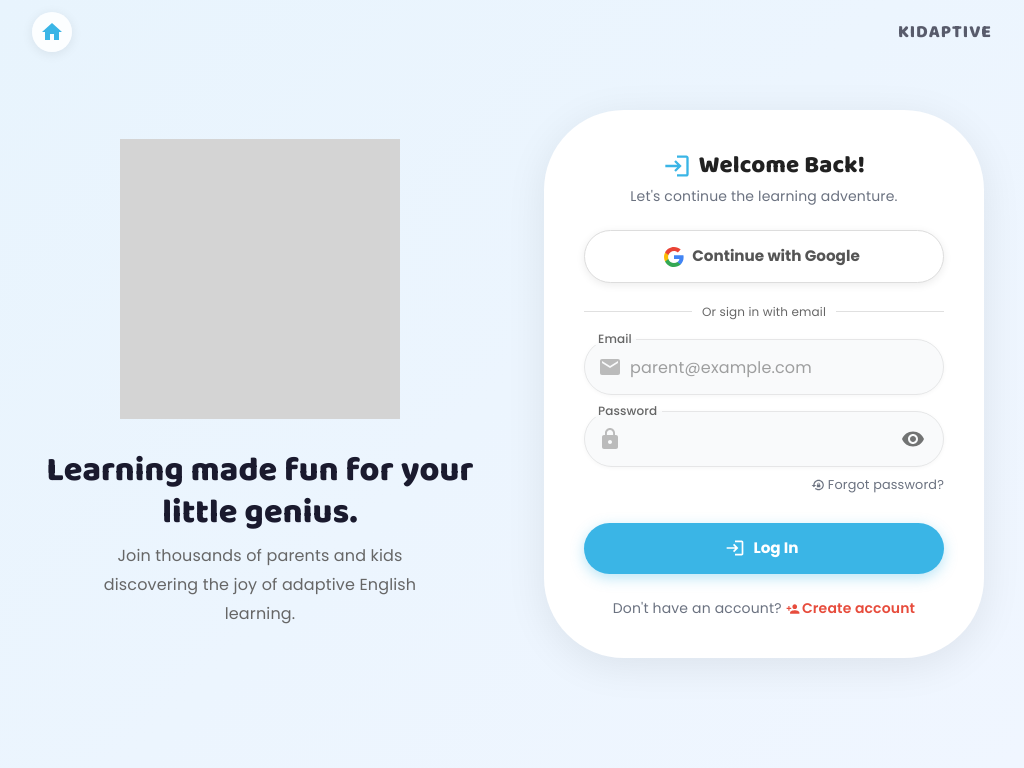
Scenario: ParentLoginPage › shows error message when login fails
In the field labelled "Email": [787, 367] box [630,339,944,395], type "parent@test.com"
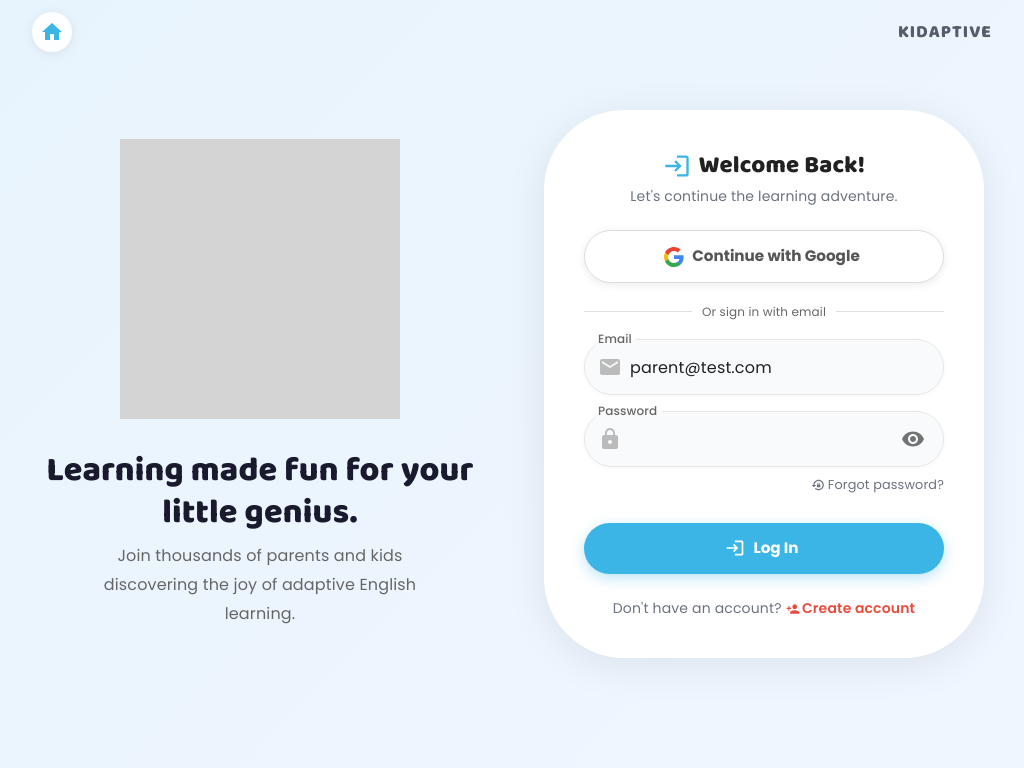
In the password field labelled "Password": [759, 439] box [630,411,888,467], type "wrongpassword"
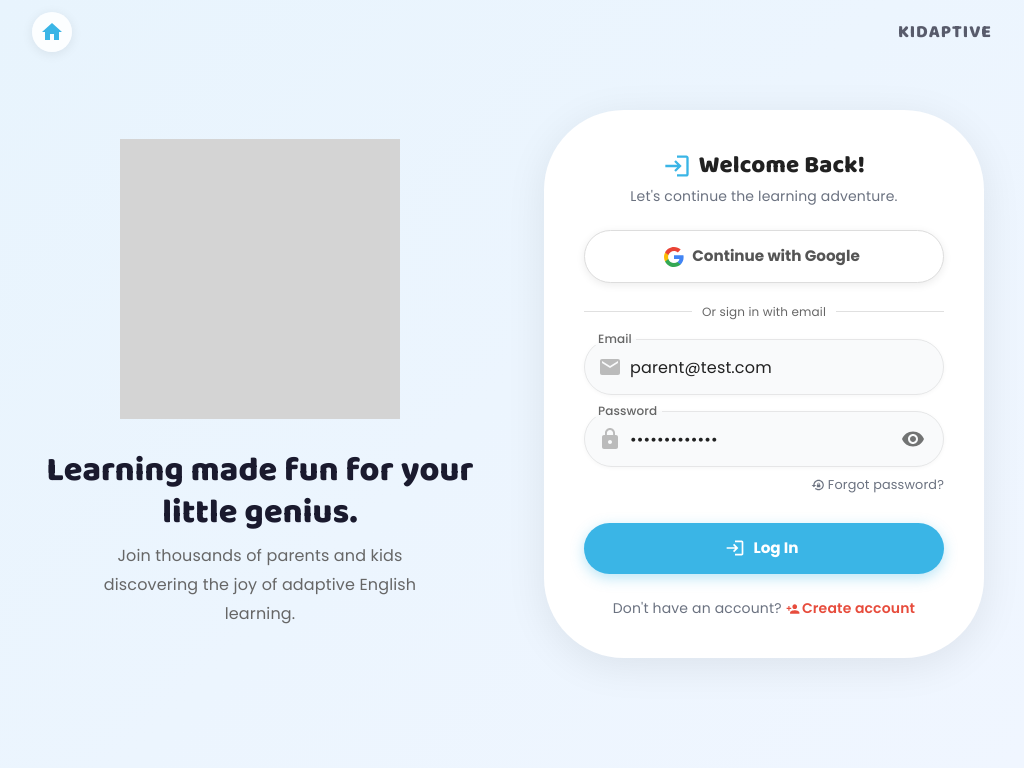
Click the button "Log In": [764, 548] box [584,523,944,574]
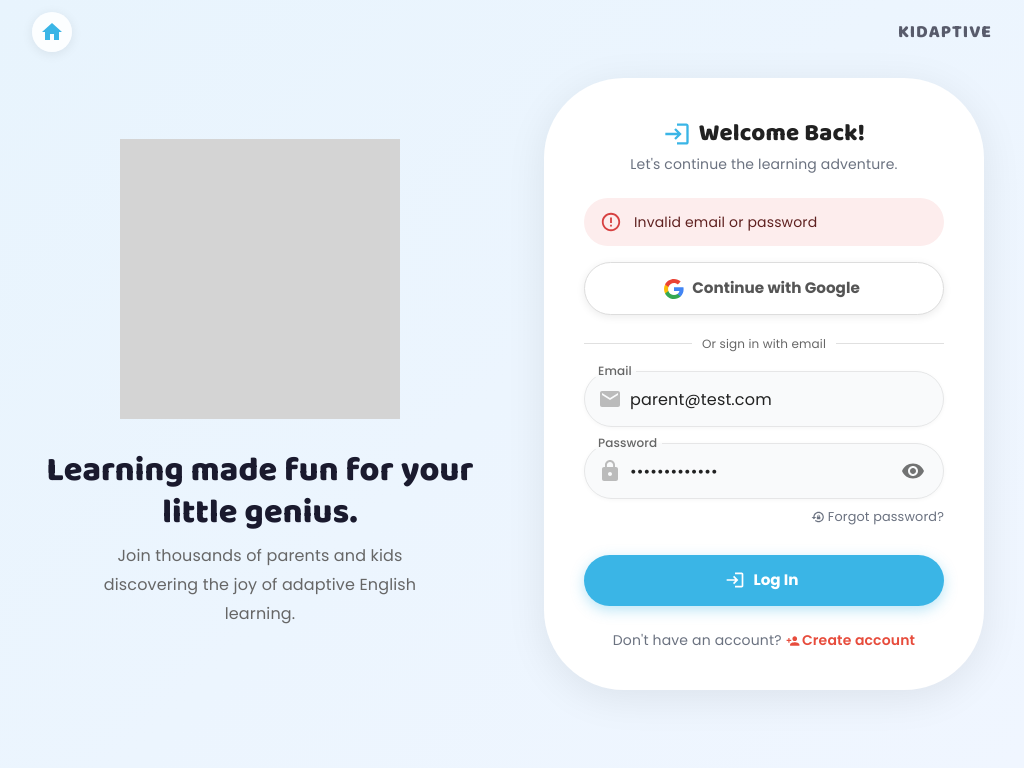
Result: the text "Invalid email or password" is shown at [634,212,817,232]
